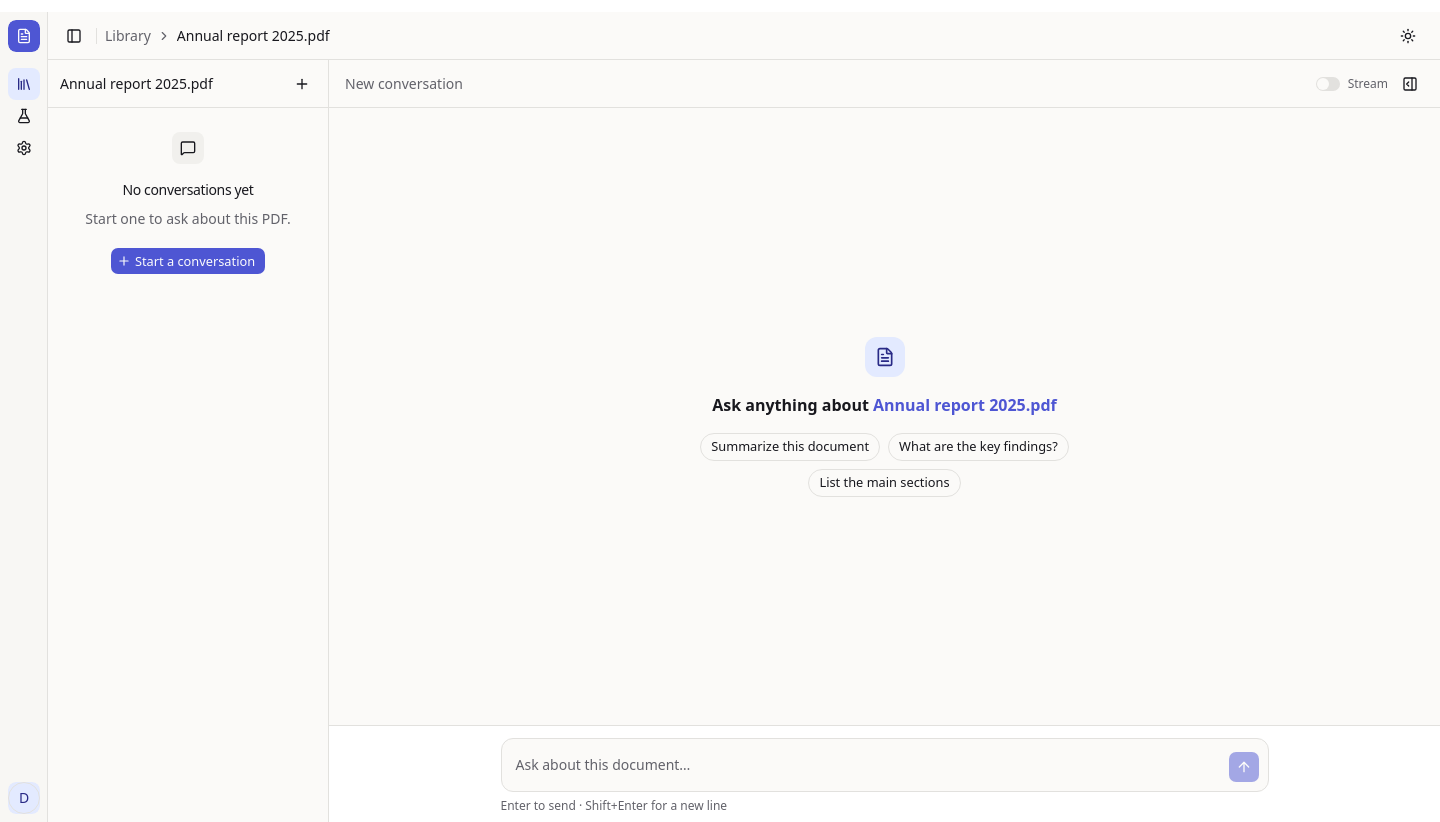
Scenario: chat › creates the conversation on the first message
Click the button "Summarize this document": (790, 446) [700,432,880,460]
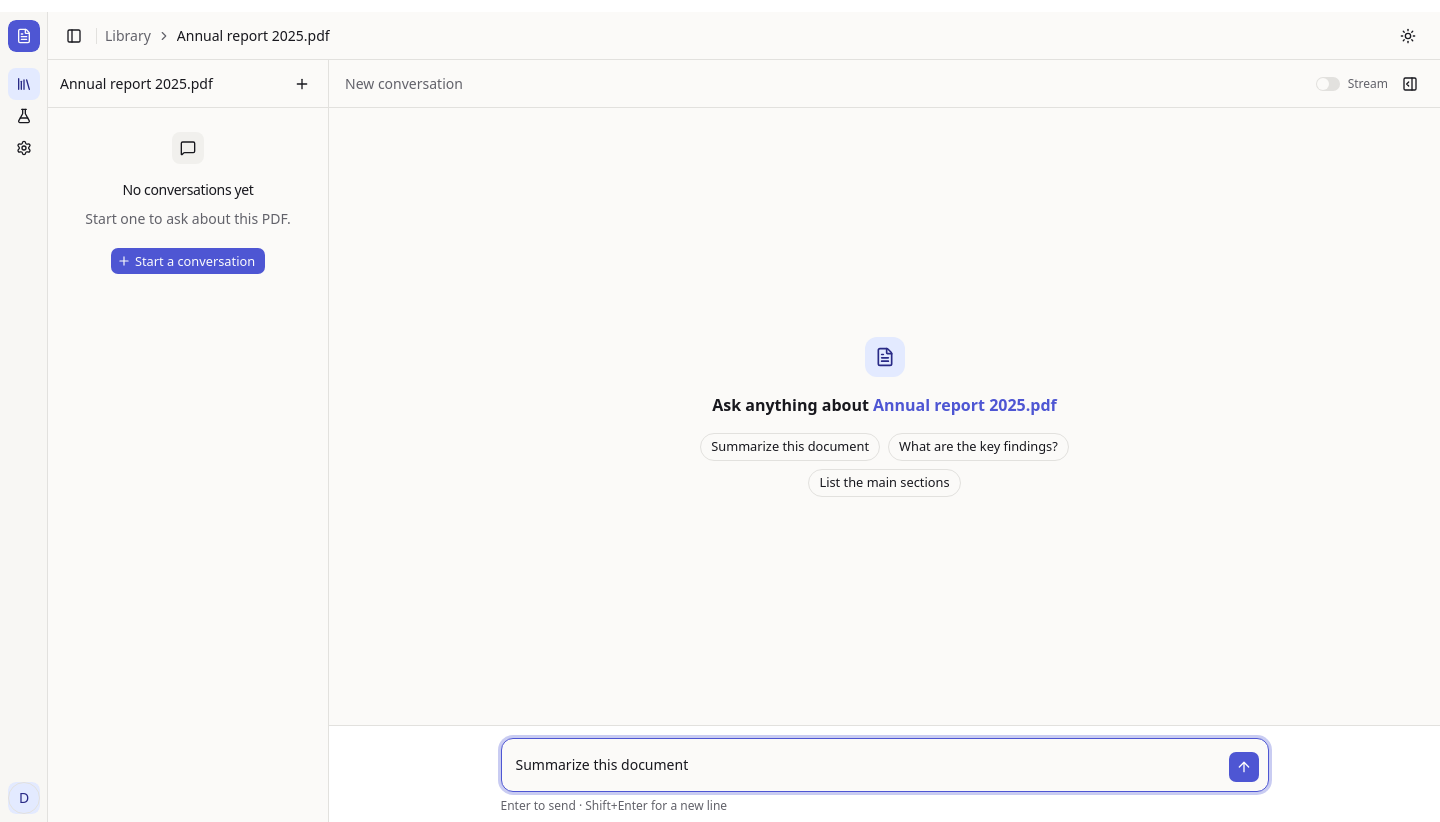
Result: the text box named "Ask about this document" holds "Summarize this document" at [510,747,1220,783]
Click the button named "Send message": (1244, 767) [1228,751,1260,783]
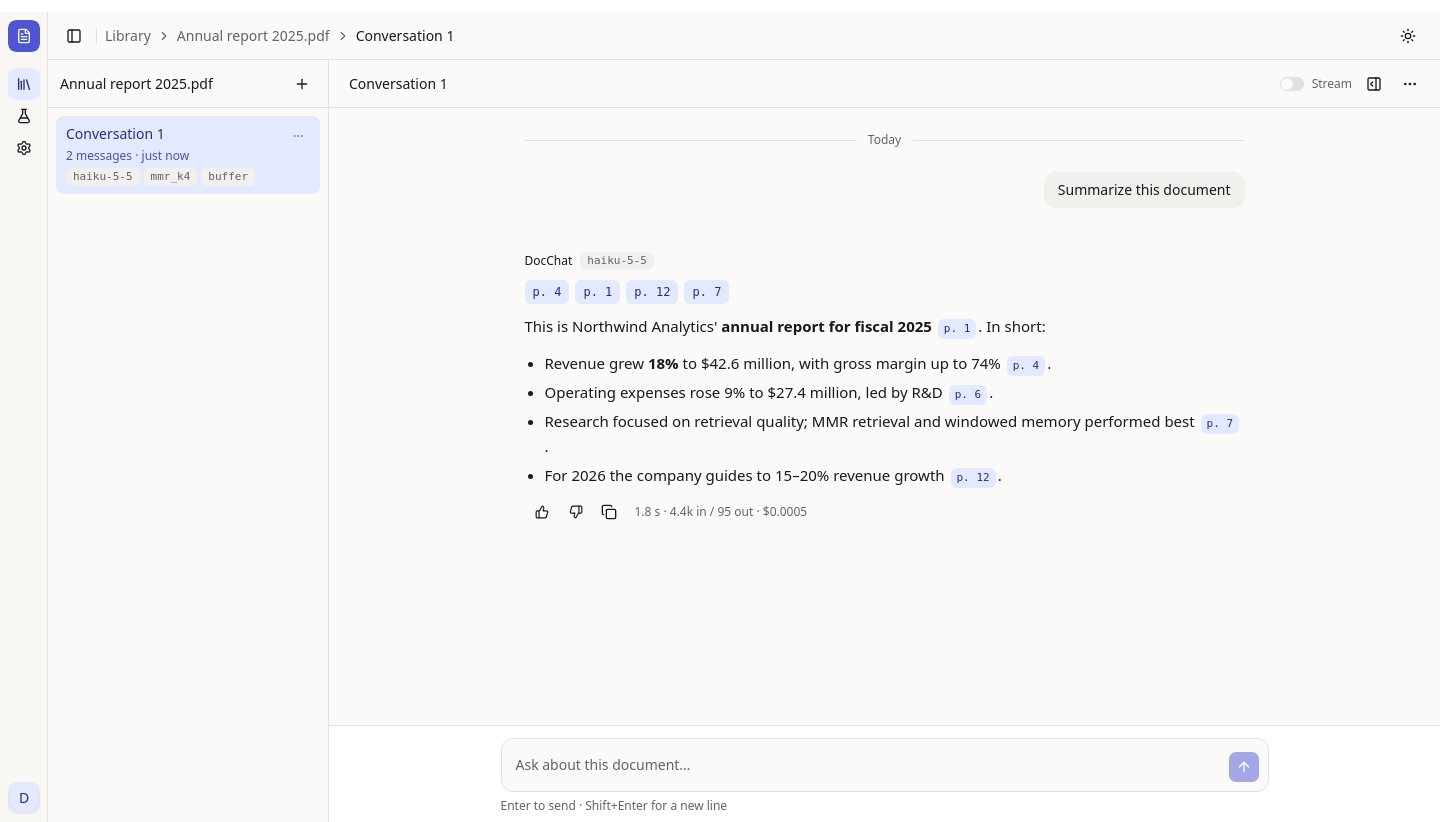
Result: the text "annual report for fiscal 2025" is shown at [721,316,932,336]
